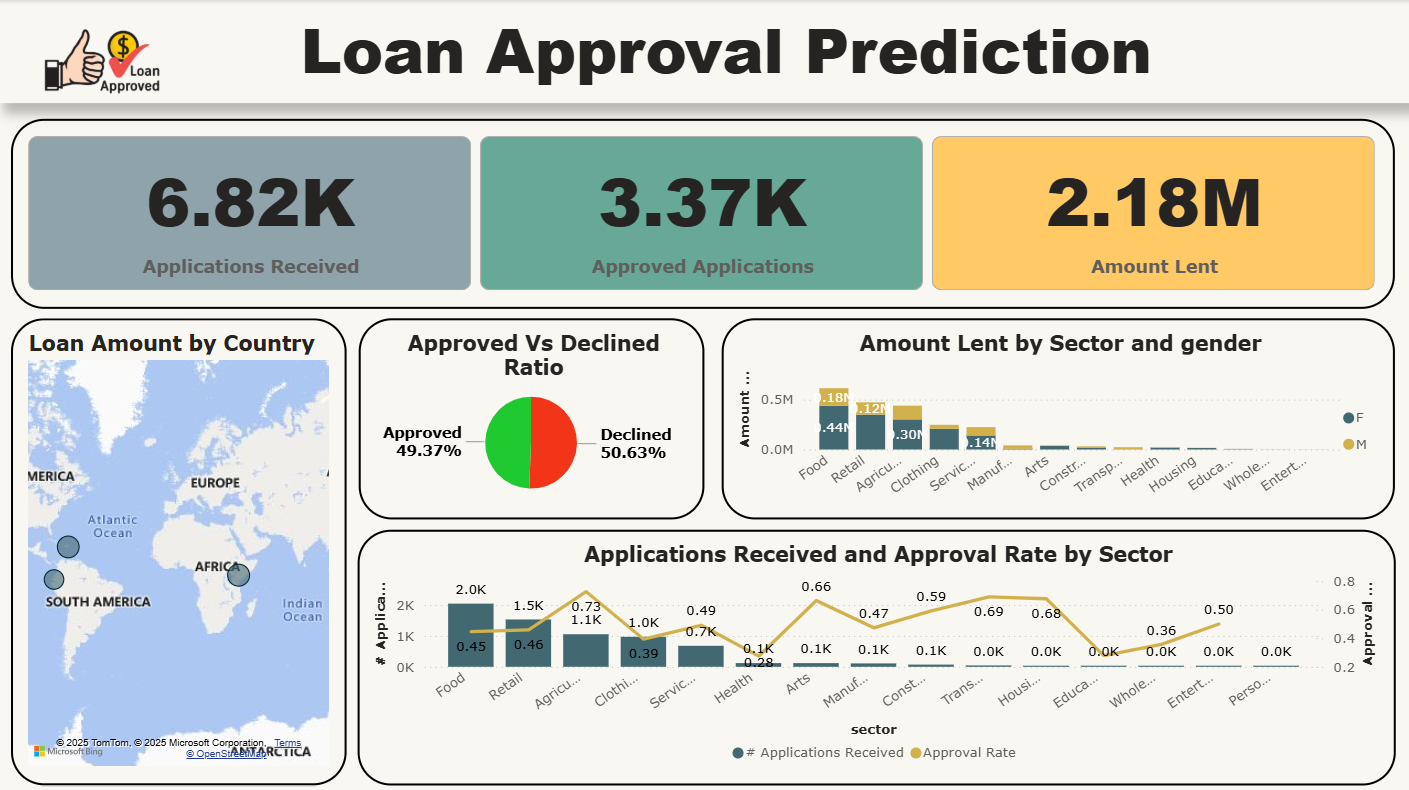

This screenshot's page, from the dashboard's own definition file:
{"tool":"powerbi","page":{"name":"Page 1","canvas":[1280,720],"ordinal":0},"visuals":[{"type":"cardVisual","fields":{"Data":["LoanApplication.Applications Received","LoanApplication.Approved Applications","LoanApplication.Amount Lent"]},"box":[11.2,107.5,1256.2,172.5],"z":0},{"type":"lineStackedColumnComboChart","title":"Applications Received and Approval Rate by Sector","fields":{"Category":["LoanApplication.sector"],"Y":["LoanApplication.Applications Received"],"Y2":["LoanApplication.Approval Rate"]},"box":[325.5,480.8,941.8,232.5],"z":1000},{"type":"columnChart","title":"Amount Lent by Sector and gender","fields":{"Category":["LoanApplication.sector"],"Y":["LoanApplication.Amount Lent"],"Series":["LoanApplication.gender"]},"box":[656.2,288.8,611.2,182.5],"z":2000},{"type":"pieChart","title":"Approved Vs Declined Ratio","fields":{"Y":["LoanApplication.Applications Received"],"Category":["LoanApplication.Status Desc"]},"box":[326.2,288.8,313.8,182.5],"z":3000},{"type":"textbox","box":[0,0,1279.8,93.8],"z":4000},{"type":"map","title":"Loan Amount by Country","fields":{"Category":["LoanApplication.country"],"Size":["Sum(LoanApplication.loan_amount)"]},"box":[10.9,288.9,304.7,423.4],"z":5000},{"type":"image","box":[0,0,187,122.7],"z":6000}]}

Visuals, with their boxes in screenshot pixels (x1, y1, x2, y2), scaled from the page's 1280x720 canvas onto the 1409x790 screenshot:
cardVisual - LoanApplication.Applications Received x LoanApplication.Approved Applications: 12,118,1395,307
"Applications Received and Approval Rate by Sector" lineStackedColumnComboChart: 358,528,1395,783
"Amount Lent by Sector and gender" columnChart: 722,317,1395,517
"Approved Vs Declined Ratio" pieChart: 359,317,704,517
textbox: 0,0,1408,103
"Loan Amount by Country" map: 12,317,347,782
image: 0,0,206,135
